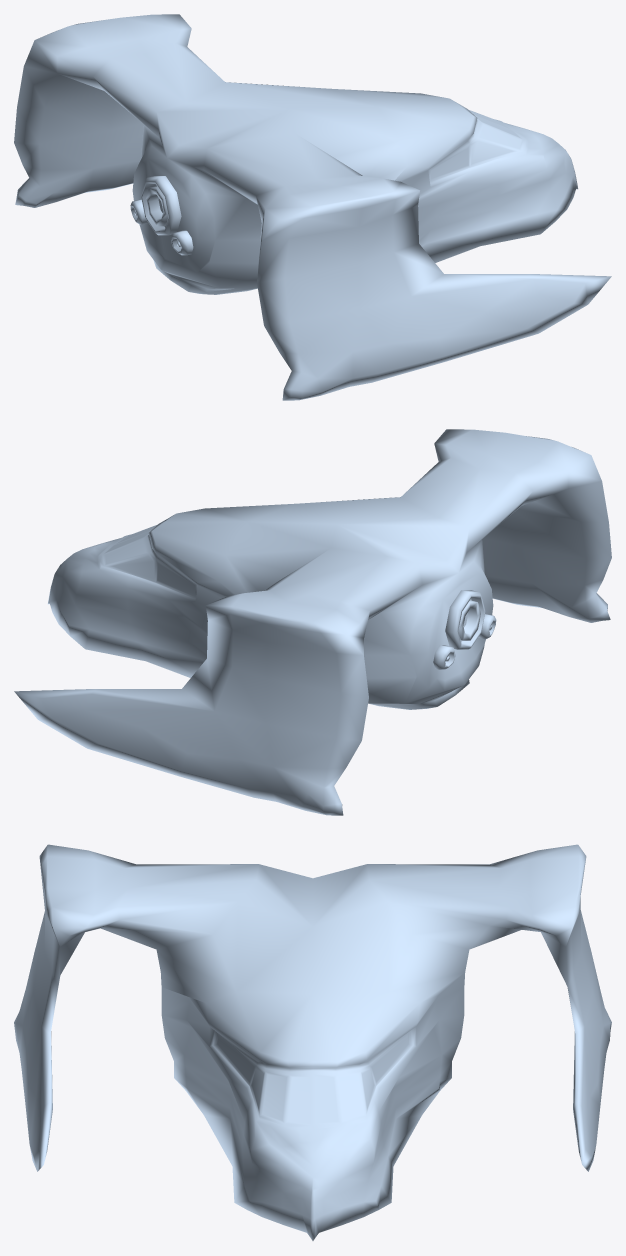
The model's file is talon.obj.
3 views of the same model, one above another, from view 1: azimuth 30°, elevation 25°; view 2: azimuth 150°, elevation 25°; view 3: azimuth 270°, elevation 25° (orthographic). The views are drawn at different scales.
Parts seen in each view (by area): view 1: cube1, cube1_cut2; view 2: cube1, cube1_cut2; view 3: cube1.
Boxes of the visible parts, bbox=[...] form: cube1: bbox=[14, 14, 611, 400]; cube1_cut2: bbox=[141, 176, 181, 235]; cube1: bbox=[14, 429, 611, 815]; cube1_cut2: bbox=[445, 590, 485, 649]; cube1: bbox=[14, 844, 611, 1240].
Size of the model in its own units: 6.96 by 2.74 by 7.57.
